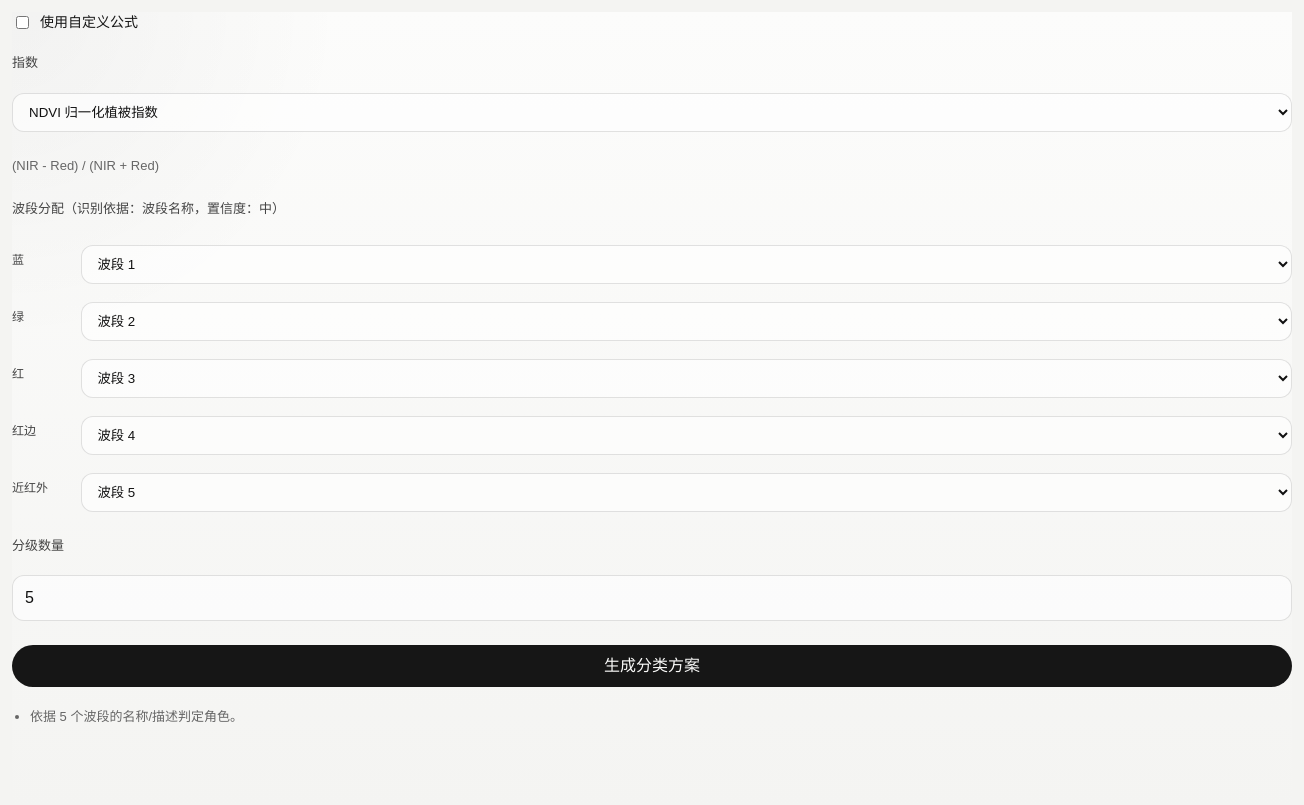
it: VegetationIndexPanel › generates an equal-area scheme and makes it the visible layer
This screenshot has width=1304, height=805.
Replace the text in the number field labelled "分级数量" with "2": (652, 598) [12, 575, 1292, 621]
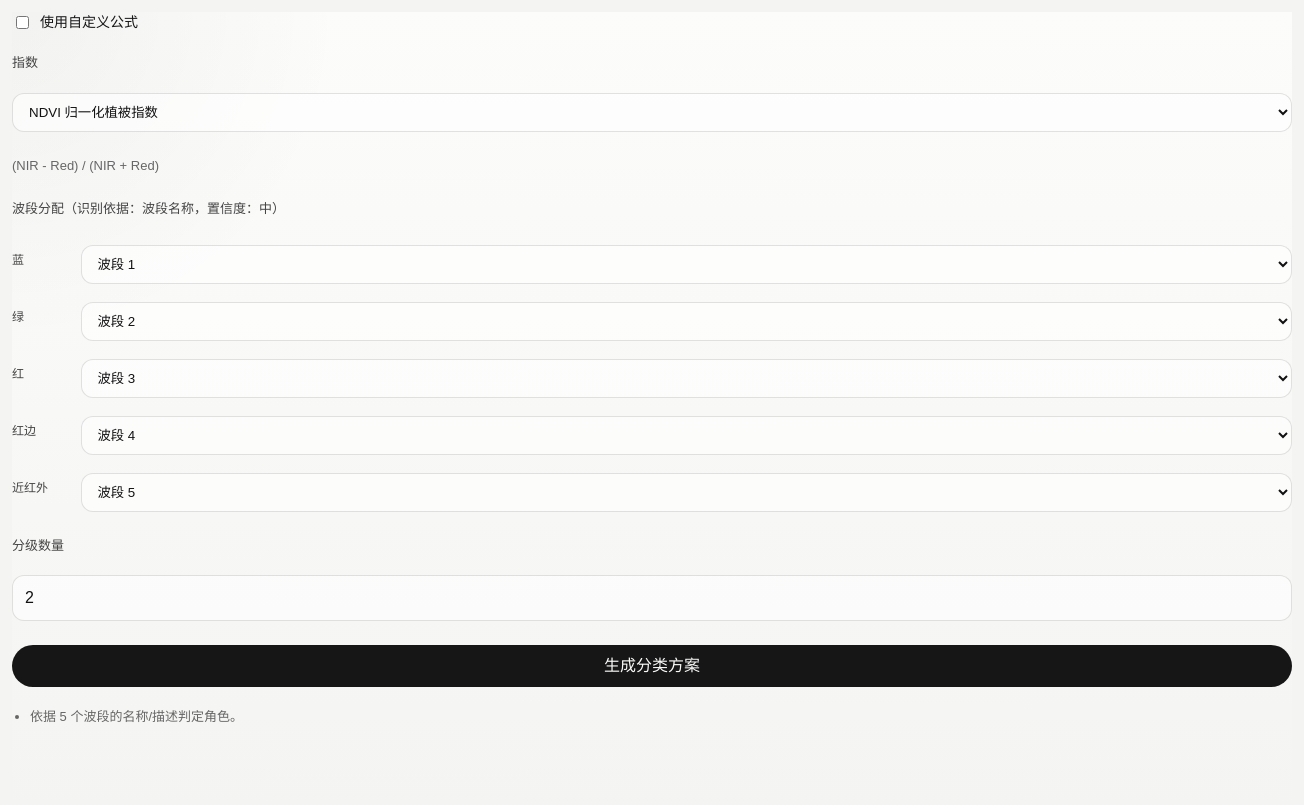
Click the button "生成分类方案": click(652, 666) [12, 645, 1292, 687]
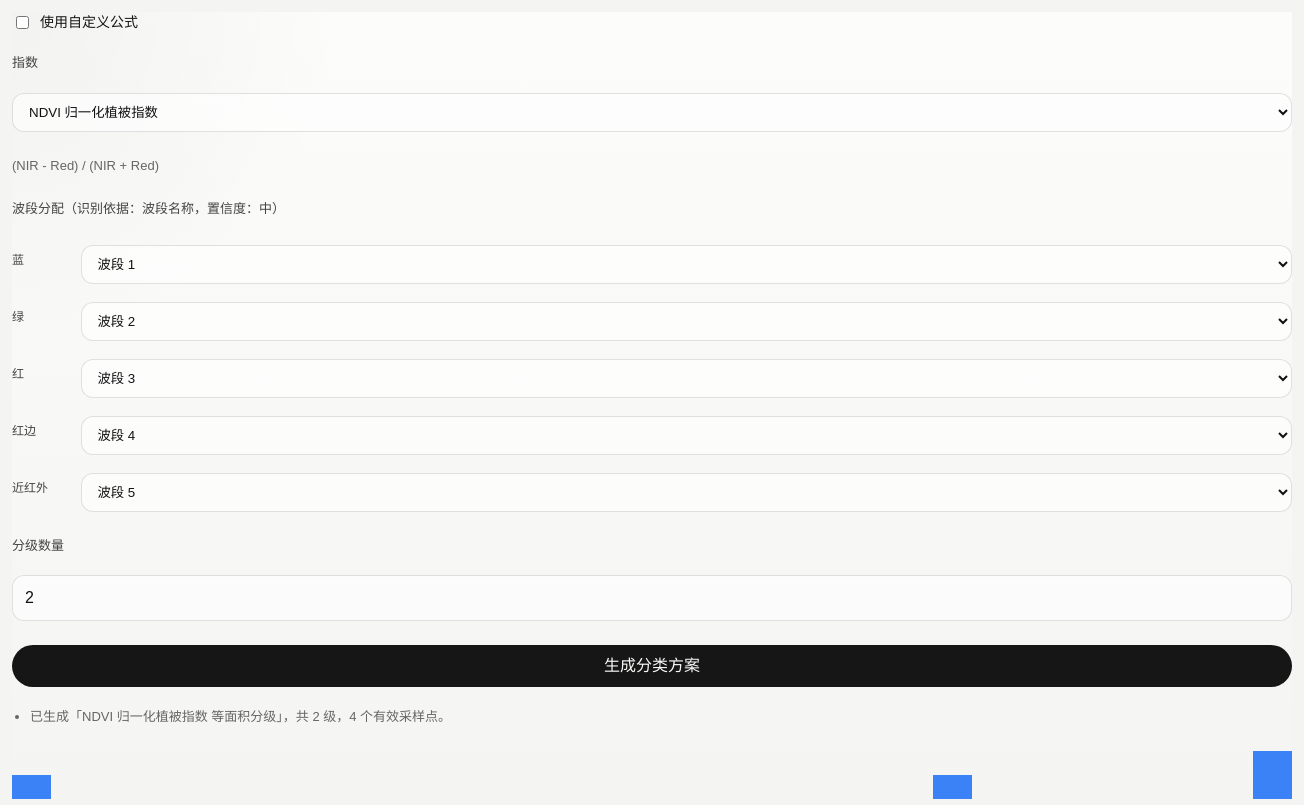
Expected: the list named "vegetation-index-message" shows "已生成", [30, 709, 451, 724]
